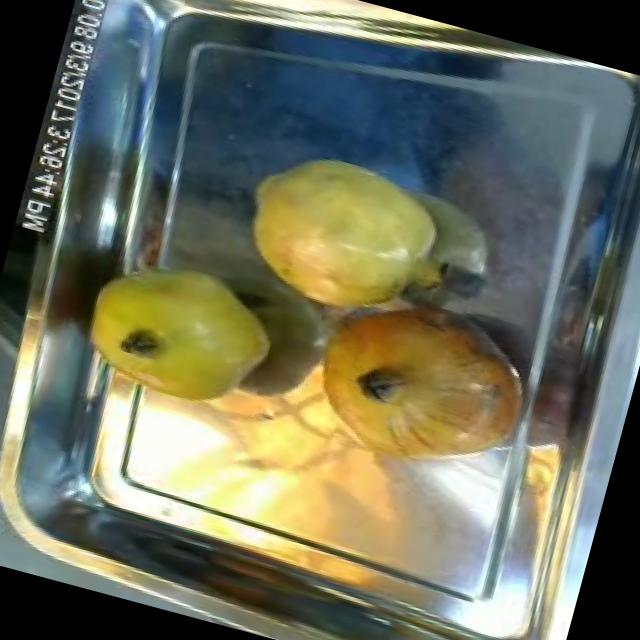fruit: (285, 271, 551, 500), (211, 126, 479, 347), (59, 230, 299, 438)
